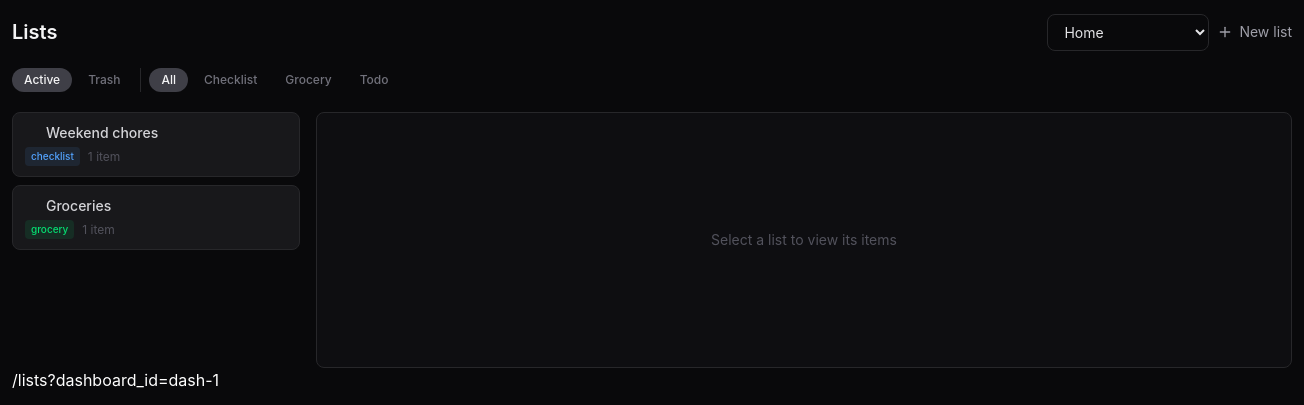
Test: ListsLayout / ListDetailPage › navigates to the list path when a list row is clicked
The image size is (1304, 405).
Click the button with aria-label "Open list Groceries" at (79, 206), box [12,185,300,250]
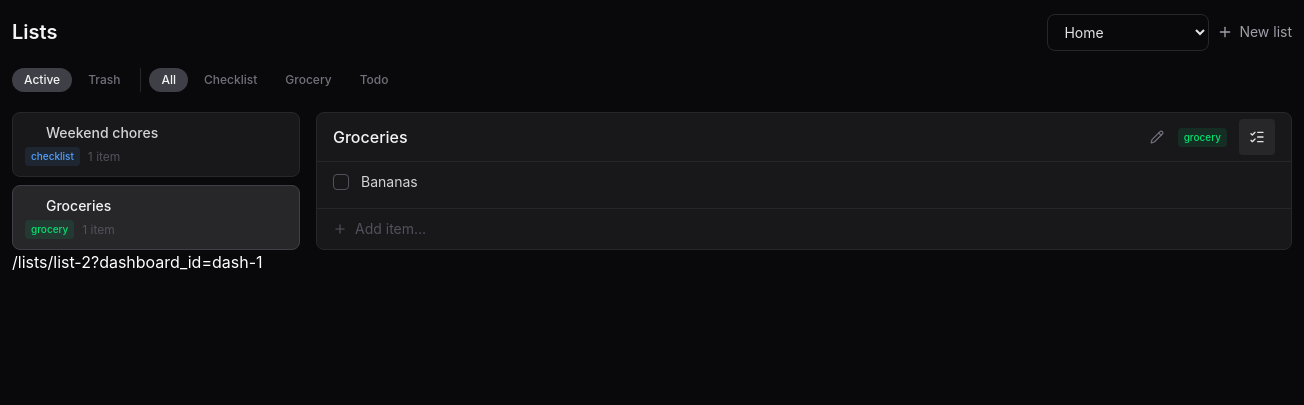
Check: the text with test id "location" reads "/lists/list-2?dashboard_id=dash-1", box [12,252,262,272]
Check: the text "Bananas" is shown, box [361,173,418,190]
